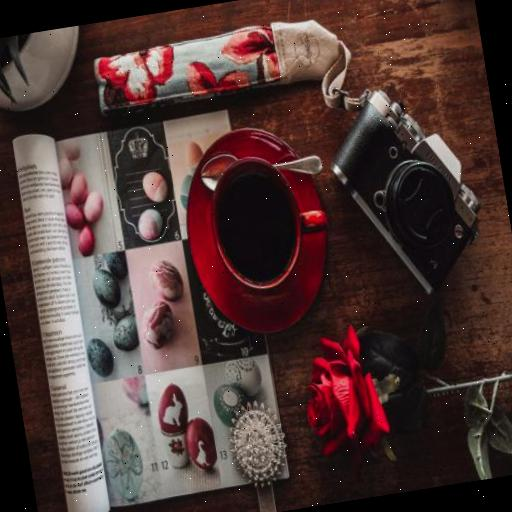cup: (201, 145, 337, 300)
